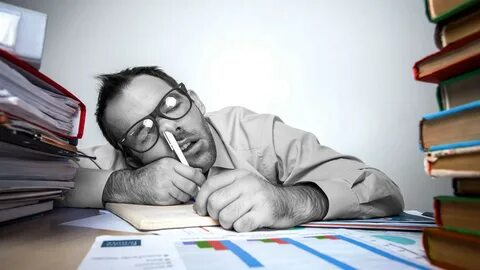sleep: (67, 65, 403, 226)
